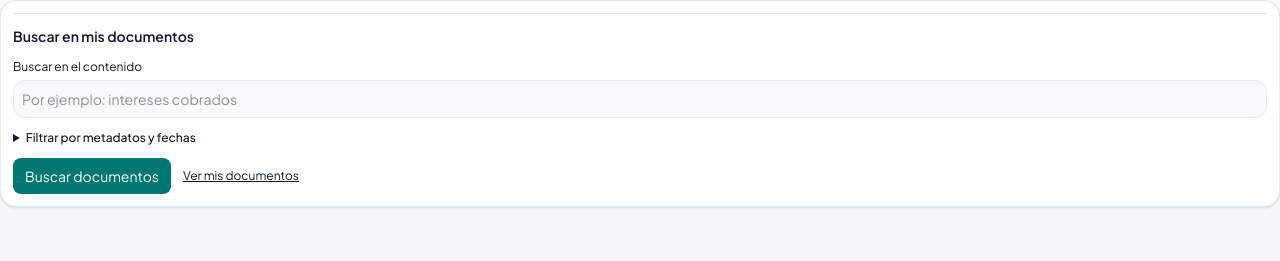
Document library › shows service errors without fabricating documents
Click the button "Buscar documentos".
click(92, 176)  # box [13,158,171,194]
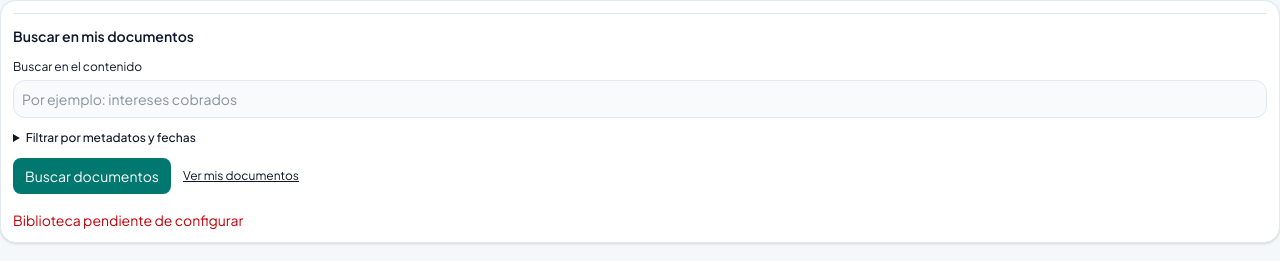
Expected: the message shows "pendiente de configurar", [13,211,243,229]
